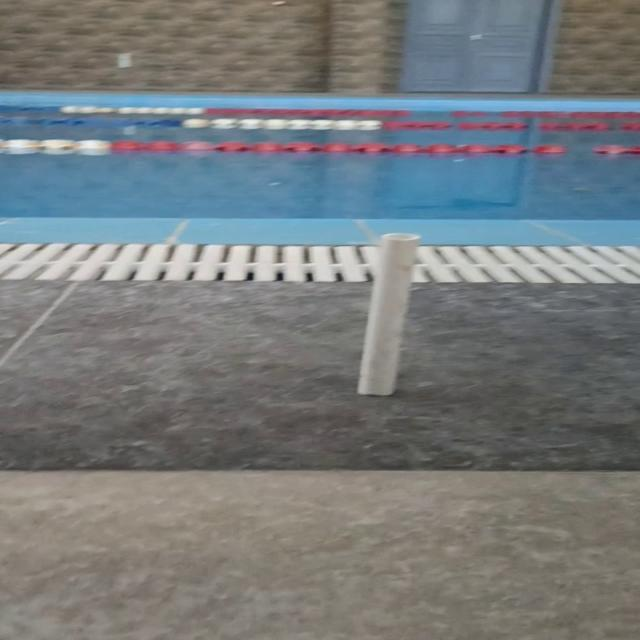Cube: (354, 231, 421, 396)
